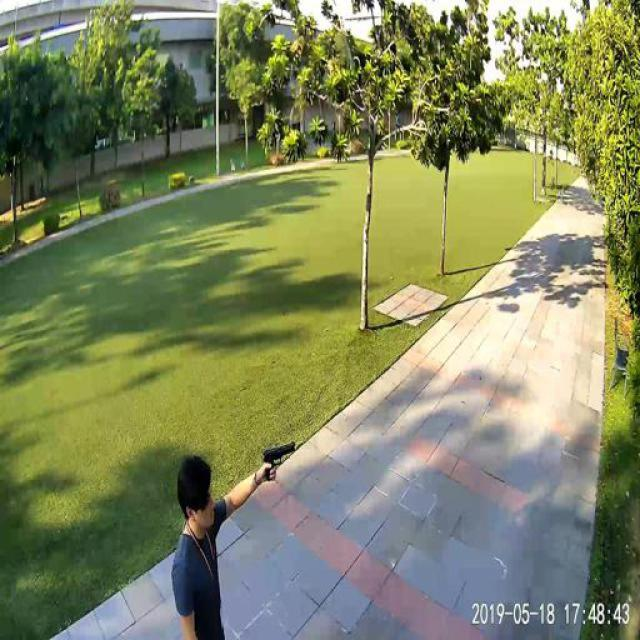weapon: (262, 441, 296, 482)
